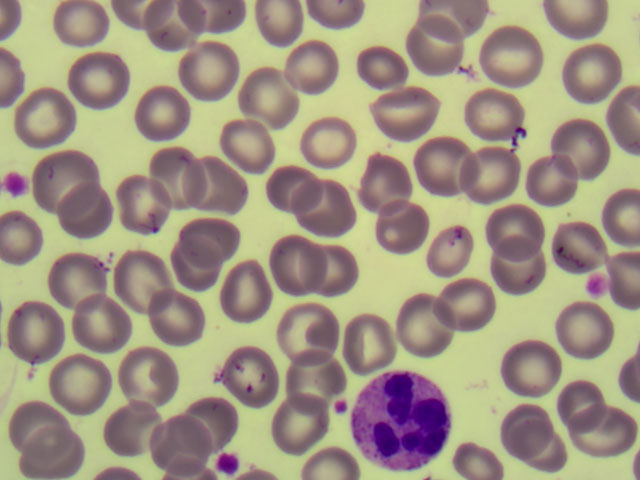Platelets: (580, 270, 613, 305), (331, 397, 363, 424), (209, 452, 246, 475), (2, 171, 30, 200)
RBC: (16, 86, 73, 149), (27, 425, 84, 480), (70, 54, 127, 108), (147, 2, 204, 56), (182, 44, 239, 98), (138, 87, 195, 141), (240, 72, 297, 126), (276, 40, 333, 94), (345, 36, 402, 90), (395, 22, 452, 76), (480, 23, 537, 77), (469, 85, 526, 139), (466, 140, 523, 194), (416, 138, 473, 192), (356, 151, 413, 205), (375, 84, 432, 138), (296, 111, 353, 165), (259, 156, 316, 210), (299, 191, 356, 245), (217, 120, 274, 174), (191, 163, 248, 217), (150, 143, 207, 197), (113, 177, 170, 231), (61, 191, 118, 245), (28, 149, 85, 203), (2, 213, 59, 267), (53, 250, 110, 304), (117, 250, 174, 304), (151, 297, 208, 351), (84, 298, 141, 352), (20, 307, 77, 361), (50, 361, 107, 415), (122, 352, 179, 406), (108, 396, 165, 450), (141, 417, 198, 471), (186, 388, 243, 442), (217, 355, 274, 409), (219, 264, 276, 318), (258, 240, 315, 294), (300, 237, 357, 291), (183, 213, 240, 267), (156, 241, 213, 295), (13, 400, 70, 454), (268, 305, 325, 359), (285, 351, 342, 405), (271, 396, 328, 450), (493, 404, 550, 458), (507, 425, 564, 479), (554, 372, 611, 426), (579, 408, 636, 462), (502, 344, 559, 398), (561, 306, 618, 360), (442, 278, 499, 332), (394, 301, 451, 355), (344, 317, 401, 371), (417, 226, 474, 280), (378, 203, 435, 257), (476, 197, 533, 251), (487, 240, 544, 294), (555, 216, 612, 270), (583, 186, 640, 240), (513, 153, 570, 207), (545, 124, 602, 178), (565, 50, 622, 104), (546, 1, 603, 55), (52, 1, 109, 54), (253, 1, 310, 54), (608, 85, 640, 150)
WBC: (357, 375, 458, 469)
